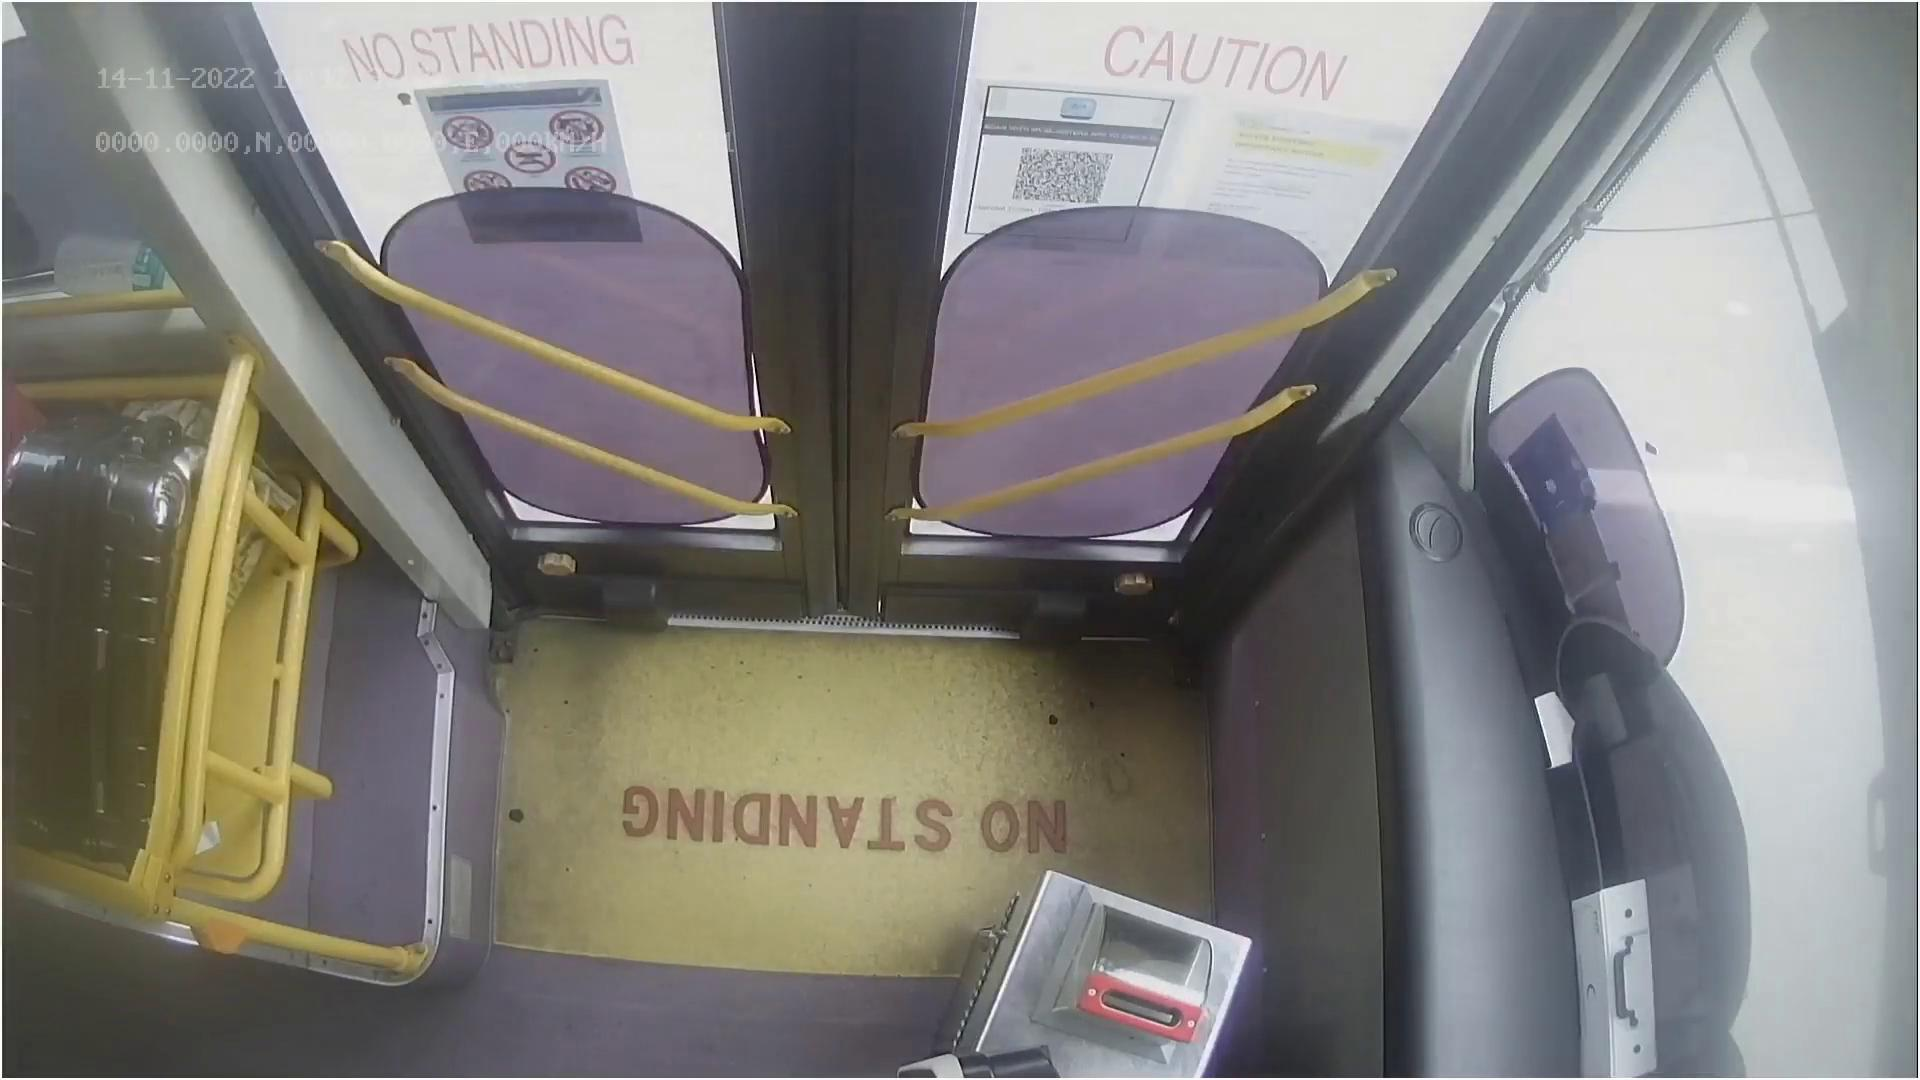close: (285, 0, 1428, 177)
